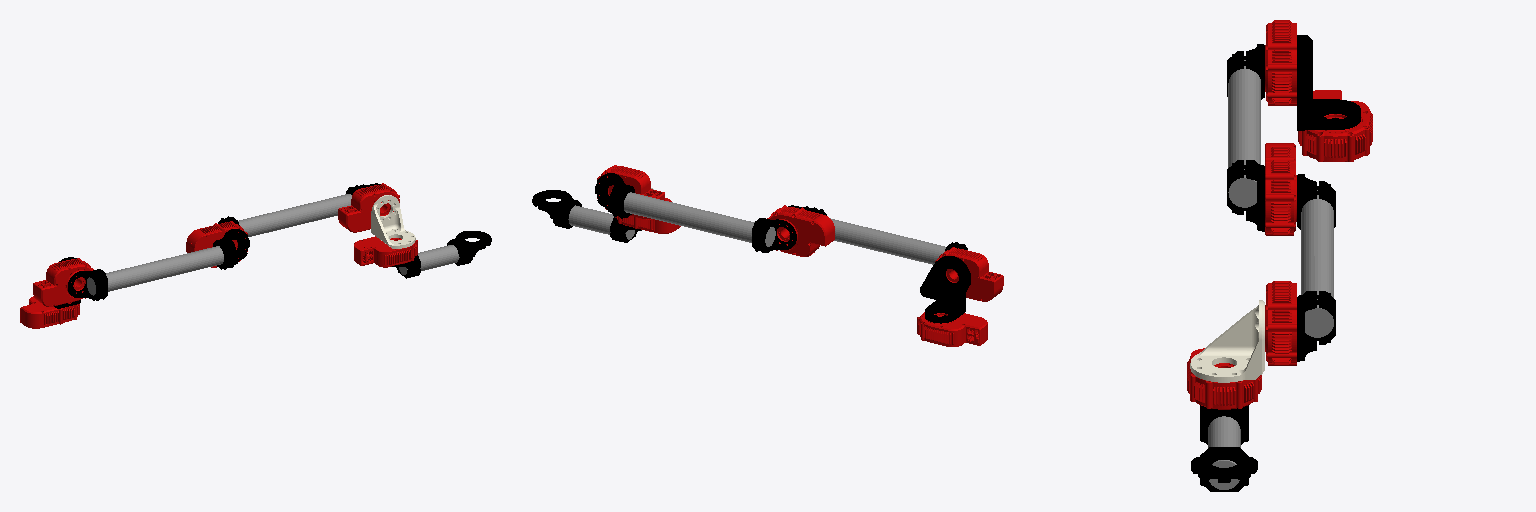
URDF robot description (5_dof_arm):
<?xml version="1.0" ?>
<!-- =================================================================================== -->
<!-- |    This document was autogenerated by xacro from 5_dof_arm.xacro                | -->
<!-- |    EDITING THIS FILE BY HAND IS NOT RECOMMENDED                                 | -->
<!-- =================================================================================== -->
<robot name="5_dof_arm" xmlns:xacro="http://www.ros.org/wiki/xacro">
  <!-- *************************** XACRO MACROS *************************** -->
  <!-- ************************* ROBOT DEFINITION ************************* -->
  <!-- world link -->
  <link name="world"/>
  <joint name="world_joint" type="fixed">
    <origin rpy="0 0 0" xyz="0 0 0"/>
    <parent link="world"/>
    <child link="HEBI/joint1/INPUT_INTERFACE"/>
  </joint>
  <link name="HEBI/joint1/INPUT_INTERFACE">
    <visual>
      <origin rpy="0 0 0" xyz="0 0 0"/>
      <geometry>
        <mesh filename="package://hebiros_description/meshes/x5.stl" scale="0.001 0.001 0.001"/>
      </geometry>
      <material name="red">
        <color rgba=".82 0.06 0.06 1"/>
      </material>
    </visual>
    <collision>
      <origin rpy="0 0 0" xyz="0 0 0"/>
      <geometry>
        <mesh filename="package://hebiros_description/meshes/x5.stl" scale="0.001 0.001 0.001"/>
      </geometry>
    </collision>
    <inertial>
      <origin rpy="0 0 0" xyz="-0.0142 -0.0031 0.0165"/>
      <mass value="0.335"/>
      <inertia ixx="0.00015" ixy="0.0000341" ixz="0.0000118" iyy="0.000255" iyz="0.00000229" izz="0.000350"/>
    </inertial>
  </link>
  <joint name="HEBI/joint1/X5_4" type="continuous">
    <parent link="HEBI/joint1/INPUT_INTERFACE"/>
    <child link="joint1_joint2/INPUT_INTERFACE"/>
    <origin rpy="0 0 0" xyz="0 0 0.031"/>
    <axis xyz="0 0 1"/>
    <limit effort="7.0" velocity="32"/>
    <dynamics damping="0.1" friction="0.1"/>
  </joint>
  <gazebo reference="HEBI/joint1/INPUT_INTERFACE">
    <selfCollide>true</selfCollide>
    <gravity>true</gravity>
    <sensor name="HEBI/joint1/imu_sensor" type="imu">
      <always_on>true</always_on>
      <update_rate>100</update_rate>
      <visualize>true</visualize>
      <plugin filename="libgazebo_ros_imu_sensor.so" name="imu_plugin">
        <topicName>/hebiros_gazebo_plugin/imu/HEBI/joint1</topicName>
        <bodyName>HEBI/joint1/imu_link</bodyName>
        <updateRateHZ>10.0</updateRateHZ>
        <gaussianNoise>0.0</gaussianNoise>
        <xyzOffset>0.025 0 0.003</xyzOffset>
        <rpyOffset>0 0 0</rpyOffset>
        <frameName>HEBI/joint1/imu_link</frameName>
      </plugin>
      <pose>0 0 0 0 0 0</pose>
    </sensor>
    <material>Gazebo/BlueGlow</material>
  </gazebo>
  <link name="joint1_joint2/INPUT_INTERFACE">
    <visual>
      <origin rpy="1.57079632679 0 1.57079632679" xyz="0 0 0.005"/>
      <geometry>
        <mesh filename="package://hebiros_description/meshes/PM-2149-01.stl" scale="0.001 0.001 0.001"/>
      </geometry>
      <material name="black">
        <color rgba="0 0 0 1"/>
      </material>
    </visual>
    <visual>
      <origin rpy="1.57079632679 0 0" xyz="0 -.03 .04"/>
      <geometry>
        <mesh filename="package://hebiros_description/meshes/PM-2150-01R.stl" scale="0.001 0.001 0.001"/>
      </geometry>
      <material name="black">
        <color rgba="0 0 0 1"/>
      </material>
    </visual>
    <collision>
      <origin rpy="1.57079632679 0 1.57079632679" xyz="0 0 0.005"/>
      <geometry>
        <mesh filename="package://hebiros_description/meshes/PM-2149-01.stl" scale="0.001 0.001 0.001"/>
      </geometry>
    </collision>
    <collision>
      <origin rpy="1.57079632679 0 0" xyz="0 -.03 .04"/>
      <geometry>
        <mesh filename="package://hebiros_description/meshes/PM-2150-01R.stl" scale="0.001 0.001 0.001"/>
      </geometry>
    </collision>
    <!-- NOTE: inertia is just modelled as small sphere, and could be improved. -->
    <inertial>
      <origin rpy="0 0 0" xyz="0 -0.01875 .0275"/>
      <mass value="0.215"/>
      <inertia ixx="0.0003096" ixy="0.0" ixz="0.0" iyy="0.0003096" iyz="0.0" izz="0.0003096"/>
    </inertial>
  </link>
  <joint name="joint1_joint2/OUTPUT_INTERFACE" type="fixed">
    <parent link="joint1_joint2/INPUT_INTERFACE"/>
    <child link="HEBI/joint2/INPUT_INTERFACE"/>
    <origin rpy="1.57079632679 0 0" xyz="0 -.0375 .055"/>
  </joint>
  <gazebo reference="joint1_joint2/INPUT_INTERFACE">
    <selfCollide>true</selfCollide>
  </gazebo>
  <link name="HEBI/joint2/INPUT_INTERFACE">
    <visual>
      <origin rpy="0 0 0" xyz="0 0 0"/>
      <geometry>
        <mesh filename="package://hebiros_description/meshes/x5.stl" scale="0.001 0.001 0.001"/>
      </geometry>
      <material name="red">
        <color rgba=".82 0.06 0.06 1"/>
      </material>
    </visual>
    <collision>
      <origin rpy="0 0 0" xyz="0 0 0"/>
      <geometry>
        <mesh filename="package://hebiros_description/meshes/x5.stl" scale="0.001 0.001 0.001"/>
      </geometry>
    </collision>
    <inertial>
      <origin rpy="0 0 0" xyz="-0.0142 -0.0031 0.0165"/>
      <mass value="0.335"/>
      <inertia ixx="0.00015" ixy="0.0000341" ixz="0.0000118" iyy="0.000255" iyz="0.00000229" izz="0.000350"/>
    </inertial>
  </link>
  <joint name="HEBI/joint2/X5_4" type="continuous">
    <parent link="HEBI/joint2/INPUT_INTERFACE"/>
    <child link="joint2_joint3/INPUT_INTERFACE"/>
    <origin rpy="0 0 0" xyz="0 0 0.031"/>
    <axis xyz="0 0 1"/>
    <limit effort="7.0" velocity="32"/>
    <dynamics damping="0.1" friction="0.1"/>
  </joint>
  <gazebo reference="HEBI/joint2/INPUT_INTERFACE">
    <selfCollide>true</selfCollide>
    <gravity>true</gravity>
    <sensor name="HEBI/joint2/imu_sensor" type="imu">
      <always_on>true</always_on>
      <update_rate>100</update_rate>
      <visualize>true</visualize>
      <plugin filename="libgazebo_ros_imu_sensor.so" name="imu_plugin">
        <topicName>/hebiros_gazebo_plugin/imu/HEBI/joint2</topicName>
        <bodyName>HEBI/joint2/imu_link</bodyName>
        <updateRateHZ>10.0</updateRateHZ>
        <gaussianNoise>0.0</gaussianNoise>
        <xyzOffset>0.025 0 0.003</xyzOffset>
        <rpyOffset>0 0 0</rpyOffset>
        <frameName>HEBI/joint2/imu_link</frameName>
      </plugin>
      <pose>0 0 0 0 0 0</pose>
    </sensor>
    <material>Gazebo/BlueGlow</material>
  </gazebo>
  <link name="joint2_joint3/INPUT_INTERFACE">
    <visual>
      <origin rpy="0 0 0" xyz="0 0 0"/>
      <geometry>
        <mesh filename="package://hebiros_description/meshes/A-2038-02.stl"/>
      </geometry>
      <material name="black">
        <color rgba="0 0 0 1"/>
      </material>
    </visual>
    <visual>
      <origin rpy="0 1.57075 0" xyz="0.15 0 0.02"/>
      <geometry>
        <cylinder length="0.2746" radius=".016"/>
      </geometry>
      <material name="silver">
        <color rgba="0.6 0.6 0.6 1"/>
      </material>
    </visual>
    <visual>
      <origin rpy="-3.14159265359 0 0" xyz="0.3 -2.44929359829e-18 0.0"/>
      <geometry>
        <mesh filename="package://hebiros_description/meshes/A-2039-02.stl"/>
      </geometry>
      <material name="black">
        <color rgba="0 0 0 1"/>
      </material>
    </visual>
    <collision>
      <origin rpy="0 0 0" xyz="0 0 0"/>
      <geometry>
        <mesh filename="package://hebiros_description/meshes/A-2038-02.stl"/>
      </geometry>
    </collision>
    <collision>
      <origin rpy="0 1.57075 0" xyz="0.15 0 0.02"/>
      <geometry>
        <cylinder length="0.2746" radius=".016"/>
      </geometry>
    </collision>
    <collision>
      <origin rpy="-3.14159265359 0 0" xyz="0.3 -2.44929359829e-18 0.0"/>
      <geometry>
        <mesh filename="package://hebiros_description/meshes/A-2039-02.stl"/>
      </geometry>
    </collision>
    <!-- Approximate inertia as thin rod about x axis -->
    <inertial>
      <origin rpy="0 0 0" xyz="0.15 0 0.02"/>
      <mass value="0.392"/>
      <inertia ixx="0.0" ixy="0.0" ixz="0.0" iyy="0.00294" iyz="0.0" izz="0.00294"/>
    </inertial>
  </link>
  <joint name="joint2_joint3/OUTPUT_JOINT" type="fixed">
    <parent link="joint2_joint3/INPUT_INTERFACE"/>
    <child link="HEBI/joint3/INPUT_INTERFACE"/>
    <origin rpy="3.14159265359 0 0" xyz="0.3 -2.44929359829e-18 0.0"/>
  </joint>
  <gazebo reference="joint2_joint3/INPUT_INTERFACE">
    <selfCollide>true</selfCollide>
    <material>Gazebo/FlatBlack</material>
  </gazebo>
  <link name="HEBI/joint3/INPUT_INTERFACE">
    <visual>
      <origin rpy="0 0 0" xyz="0 0 0"/>
      <geometry>
        <mesh filename="package://hebiros_description/meshes/x5.stl" scale="0.001 0.001 0.001"/>
      </geometry>
      <material name="red">
        <color rgba=".82 0.06 0.06 1"/>
      </material>
    </visual>
    <collision>
      <origin rpy="0 0 0" xyz="0 0 0"/>
      <geometry>
        <mesh filename="package://hebiros_description/meshes/x5.stl" scale="0.001 0.001 0.001"/>
      </geometry>
    </collision>
    <inertial>
      <origin rpy="0 0 0" xyz="-0.0142 -0.0031 0.0165"/>
      <mass value="0.335"/>
      <inertia ixx="0.00015" ixy="0.0000341" ixz="0.0000118" iyy="0.000255" iyz="0.00000229" izz="0.000350"/>
    </inertial>
  </link>
  <joint name="HEBI/joint3/X5_4" type="continuous">
    <parent link="HEBI/joint3/INPUT_INTERFACE"/>
    <child link="joint3_joint4/INPUT_INTERFACE"/>
    <origin rpy="0 0 0" xyz="0 0 0.031"/>
    <axis xyz="0 0 1"/>
    <limit effort="7.0" velocity="32"/>
    <dynamics damping="0.1" friction="0.1"/>
  </joint>
  <gazebo reference="HEBI/joint3/INPUT_INTERFACE">
    <selfCollide>true</selfCollide>
    <gravity>true</gravity>
    <sensor name="HEBI/joint3/imu_sensor" type="imu">
      <always_on>true</always_on>
      <update_rate>100</update_rate>
      <visualize>true</visualize>
      <plugin filename="libgazebo_ros_imu_sensor.so" name="imu_plugin">
        <topicName>/hebiros_gazebo_plugin/imu/HEBI/joint3</topicName>
        <bodyName>HEBI/joint3/imu_link</bodyName>
        <updateRateHZ>10.0</updateRateHZ>
        <gaussianNoise>0.0</gaussianNoise>
        <xyzOffset>0.025 0 0.003</xyzOffset>
        <rpyOffset>0 0 0</rpyOffset>
        <frameName>HEBI/joint3/imu_link</frameName>
      </plugin>
      <pose>0 0 0 0 0 0</pose>
    </sensor>
    <material>Gazebo/BlueGlow</material>
  </gazebo>
  <link name="joint3_joint4/INPUT_INTERFACE">
    <visual>
      <origin rpy="0 0 0" xyz="0 0 0"/>
      <geometry>
        <mesh filename="package://hebiros_description/meshes/A-2038-02.stl"/>
      </geometry>
      <material name="black">
        <color rgba="0 0 0 1"/>
      </material>
    </visual>
    <visual>
      <origin rpy="0 1.57075 0" xyz="0.15 0 0.02"/>
      <geometry>
        <cylinder length="0.2746" radius=".016"/>
      </geometry>
      <material name="silver">
        <color rgba="0.6 0.6 0.6 1"/>
      </material>
    </visual>
    <visual>
      <origin rpy="-3.14159265359 0 0" xyz="0.3 -2.44929359829e-18 0.0"/>
      <geometry>
        <mesh filename="package://hebiros_description/meshes/A-2039-02.stl"/>
      </geometry>
      <material name="black">
        <color rgba="0 0 0 1"/>
      </material>
    </visual>
    <collision>
      <origin rpy="0 0 0" xyz="0 0 0"/>
      <geometry>
        <mesh filename="package://hebiros_description/meshes/A-2038-02.stl"/>
      </geometry>
    </collision>
    <collision>
      <origin rpy="0 1.57075 0" xyz="0.15 0 0.02"/>
      <geometry>
        <cylinder length="0.2746" radius=".016"/>
      </geometry>
    </collision>
    <collision>
      <origin rpy="-3.14159265359 0 0" xyz="0.3 -2.44929359829e-18 0.0"/>
      <geometry>
        <mesh filename="package://hebiros_description/meshes/A-2039-02.stl"/>
      </geometry>
    </collision>
    <!-- Approximate inertia as thin rod about x axis -->
    <inertial>
      <origin rpy="0 0 0" xyz="0.15 0 0.02"/>
      <mass value="0.392"/>
      <inertia ixx="0.0" ixy="0.0" ixz="0.0" iyy="0.00294" iyz="0.0" izz="0.00294"/>
    </inertial>
  </link>
  <joint name="joint3_joint4/OUTPUT_JOINT" type="fixed">
    <parent link="joint3_joint4/INPUT_INTERFACE"/>
    <child link="HEBI/joint4/INPUT_INTERFACE"/>
    <origin rpy="3.14159265359 0 0" xyz="0.3 -2.44929359829e-18 0.0"/>
  </joint>
  <gazebo reference="joint3_joint4/INPUT_INTERFACE">
    <selfCollide>true</selfCollide>
    <material>Gazebo/FlatBlack</material>
  </gazebo>
  <link name="HEBI/joint4/INPUT_INTERFACE">
    <visual>
      <origin rpy="0 0 0" xyz="0 0 0"/>
      <geometry>
        <mesh filename="package://hebiros_description/meshes/x5.stl" scale="0.001 0.001 0.001"/>
      </geometry>
      <material name="red">
        <color rgba=".82 0.06 0.06 1"/>
      </material>
    </visual>
    <collision>
      <origin rpy="0 0 0" xyz="0 0 0"/>
      <geometry>
        <mesh filename="package://hebiros_description/meshes/x5.stl" scale="0.001 0.001 0.001"/>
      </geometry>
    </collision>
    <inertial>
      <origin rpy="0 0 0" xyz="-0.0142 -0.0031 0.0165"/>
      <mass value="0.335"/>
      <inertia ixx="0.00015" ixy="0.0000341" ixz="0.0000118" iyy="0.000255" iyz="0.00000229" izz="0.000350"/>
    </inertial>
  </link>
  <joint name="HEBI/joint4/X5_4" type="continuous">
    <parent link="HEBI/joint4/INPUT_INTERFACE"/>
    <child link="joint4_joint5/INPUT_INTERFACE"/>
    <origin rpy="0 0 0" xyz="0 0 0.031"/>
    <axis xyz="0 0 1"/>
    <limit effort="7.0" velocity="32"/>
    <dynamics damping="0.1" friction="0.1"/>
  </joint>
  <gazebo reference="HEBI/joint4/INPUT_INTERFACE">
    <selfCollide>true</selfCollide>
    <gravity>true</gravity>
    <sensor name="HEBI/joint4/imu_sensor" type="imu">
      <always_on>true</always_on>
      <update_rate>100</update_rate>
      <visualize>true</visualize>
      <plugin filename="libgazebo_ros_imu_sensor.so" name="imu_plugin">
        <topicName>/hebiros_gazebo_plugin/imu/HEBI/joint4</topicName>
        <bodyName>HEBI/joint4/imu_link</bodyName>
        <updateRateHZ>10.0</updateRateHZ>
        <gaussianNoise>0.0</gaussianNoise>
        <xyzOffset>0.025 0 0.003</xyzOffset>
        <rpyOffset>0 0 0</rpyOffset>
        <frameName>HEBI/joint4/imu_link</frameName>
      </plugin>
      <pose>0 0 0 0 0 0</pose>
    </sensor>
    <material>Gazebo/BlueGlow</material>
  </gazebo>
  <link name="joint4_joint5/INPUT_INTERFACE">
    <visual>
      <origin rpy="1.57079632679 0 -1.57079632679" xyz="0 0 0"/>
      <geometry>
        <mesh filename="package://hebiros_description/meshes/PM-2132-01R.stl" scale="0.001 0.001 0.001"/>
      </geometry>
      <material name="beige">
        <color rgba="0.96 0.945 0.871 1"/>
      </material>
    </visual>
    <collision>
      <origin rpy="1.57079632679 0 -1.57079632679" xyz="0 0 0"/>
      <geometry>
        <mesh filename="package://hebiros_description/meshes/PM-2132-01R.stl" scale="0.001 0.001 0.001"/>
      </geometry>
    </collision>
    <!-- NOTE: inertia is just modelled as small sphere, and could be improved. -->
    <inertial>
      <origin rpy="0 0 0" xyz="0 -.0215 .02"/>
      <mass value="0.1"/>
      <inertia ixx="0.000144" ixy="0.0" ixz="0.0" iyy="0.000144" iyz="0.0" izz="0.000144"/>
    </inertial>
  </link>
  <joint name="joint4_joint5/OUTPUT_INTERFACE" type="fixed">
    <parent link="joint4_joint5/INPUT_INTERFACE"/>
    <child link="HEBI/joint5/INPUT_INTERFACE"/>
    <origin rpy="1.57079632679 0 0" xyz="0 -.043 .04"/>
  </joint>
  <gazebo reference="joint4_joint5/INPUT_INTERFACE">
    <selfCollide>true</selfCollide>
  </gazebo>
  <link name="HEBI/joint5/INPUT_INTERFACE">
    <visual>
      <origin rpy="0 0 0" xyz="0 0 0"/>
      <geometry>
        <mesh filename="package://hebiros_description/meshes/x5.stl" scale="0.001 0.001 0.001"/>
      </geometry>
      <material name="red">
        <color rgba=".82 0.06 0.06 1"/>
      </material>
    </visual>
    <collision>
      <origin rpy="0 0 0" xyz="0 0 0"/>
      <geometry>
        <mesh filename="package://hebiros_description/meshes/x5.stl" scale="0.001 0.001 0.001"/>
      </geometry>
    </collision>
    <inertial>
      <origin rpy="0 0 0" xyz="-0.0142 -0.0031 0.0165"/>
      <mass value="0.335"/>
      <inertia ixx="0.00015" ixy="0.0000341" ixz="0.0000118" iyy="0.000255" iyz="0.00000229" izz="0.000350"/>
    </inertial>
  </link>
  <joint name="HEBI/joint5/X5_4" type="continuous">
    <parent link="HEBI/joint5/INPUT_INTERFACE"/>
    <child link="joint5_end/INPUT_INTERFACE"/>
    <origin rpy="0 0 0" xyz="0 0 0.031"/>
    <axis xyz="0 0 1"/>
    <limit effort="7.0" velocity="32"/>
    <dynamics damping="0.1" friction="0.1"/>
  </joint>
  <gazebo reference="HEBI/joint5/INPUT_INTERFACE">
    <selfCollide>true</selfCollide>
    <gravity>true</gravity>
    <sensor name="HEBI/joint5/imu_sensor" type="imu">
      <always_on>true</always_on>
      <update_rate>100</update_rate>
      <visualize>true</visualize>
      <plugin filename="libgazebo_ros_imu_sensor.so" name="imu_plugin">
        <topicName>/hebiros_gazebo_plugin/imu/HEBI/joint5</topicName>
        <bodyName>HEBI/joint5/imu_link</bodyName>
        <updateRateHZ>10.0</updateRateHZ>
        <gaussianNoise>0.0</gaussianNoise>
        <xyzOffset>0.025 0 0.003</xyzOffset>
        <rpyOffset>0 0 0</rpyOffset>
        <frameName>HEBI/joint5/imu_link</frameName>
      </plugin>
      <pose>0 0 0 0 0 0</pose>
    </sensor>
    <material>Gazebo/BlueGlow</material>
  </gazebo>
  <link name="joint5_end/INPUT_INTERFACE">
    <visual>
      <origin rpy="0 0 0" xyz="0 0 0"/>
      <geometry>
        <mesh filename="package://hebiros_description/meshes/A-2038-02.stl"/>
      </geometry>
      <material name="black">
        <color rgba="0 0 0 1"/>
      </material>
    </visual>
    <visual>
      <origin rpy="0 1.57075 0" xyz="0.075 0 0.02"/>
      <geometry>
        <cylinder length="0.1246" radius=".016"/>
      </geometry>
      <material name="silver">
        <color rgba="0.6 0.6 0.6 1"/>
      </material>
    </visual>
    <visual>
      <origin rpy="-3.14159265359 0 0" xyz="0.15 -2.44929359829e-18 0.0"/>
      <geometry>
        <mesh filename="package://hebiros_description/meshes/A-2039-02.stl"/>
      </geometry>
      <material name="black">
        <color rgba="0 0 0 1"/>
      </material>
    </visual>
    <collision>
      <origin rpy="0 0 0" xyz="0 0 0"/>
      <geometry>
        <mesh filename="package://hebiros_description/meshes/A-2038-02.stl"/>
      </geometry>
    </collision>
    <collision>
      <origin rpy="0 1.57075 0" xyz="0.075 0 0.02"/>
      <geometry>
        <cylinder length="0.1246" radius=".016"/>
      </geometry>
    </collision>
    <collision>
      <origin rpy="-3.14159265359 0 0" xyz="0.15 -2.44929359829e-18 0.0"/>
      <geometry>
        <mesh filename="package://hebiros_description/meshes/A-2039-02.stl"/>
      </geometry>
    </collision>
    <!-- Approximate inertia as thin rod about x axis -->
    <inertial>
      <origin rpy="0 0 0" xyz="0.075 0 0.02"/>
      <mass value="0.332"/>
      <inertia ixx="0.0" ixy="0.0" ixz="0.0" iyy="0.0006225" iyz="0.0" izz="0.0006225"/>
    </inertial>
  </link>
  <joint name="joint5_end/OUTPUT_JOINT" type="fixed">
    <parent link="joint5_end/INPUT_INTERFACE"/>
    <child link="end_effector/INPUT_INTERFACE"/>
    <origin rpy="3.14159265359 0 0" xyz="0.15 -2.44929359829e-18 0.0"/>
  </joint>
  <gazebo reference="joint5_end/INPUT_INTERFACE">
    <selfCollide>true</selfCollide>
    <material>Gazebo/FlatBlack</material>
  </gazebo>
  <!-- end link -->
  <link name="end_effector/INPUT_INTERFACE">
  </link>
  <gazebo>
    <plugin filename="libhebiros_gazebo_plugin.so" name="hebiros_gazebo_plugin">
    </plugin>
  </gazebo>
</robot>

--- Facts derived from the render (not from the file) ---
The picture shows the robot from 3 angles, left to right: view 1: azimuth 30°, elevation 25°; view 2: azimuth 150°, elevation 25°; view 3: azimuth 270°, elevation 25°; orthographic projection.
Model 5_dof_arm with 12 links and 11 joints (5 continuous, 6 fixed), rooted at world, posed all joints at 0.
Links seen in each view (by area): view 1: joint2_joint3/INPUT_INTERFACE, joint3_joint4/INPUT_INTERFACE, joint5_end/INPUT_INTERFACE, HEBI/joint2/INPUT_INTERFACE, HEBI/joint4/INPUT_INTERFACE, joint4_joint5/INPUT_INTERFACE, HEBI/joint5/INPUT_INTERFACE, HEBI/joint1/INPUT_INTERFACE, HEBI/joint3/INPUT_INTERFACE; view 2: joint3_joint4/INPUT_INTERFACE, joint2_joint3/INPUT_INTERFACE, joint5_end/INPUT_INTERFACE, joint1_joint2/INPUT_INTERFACE, HEBI/joint3/INPUT_INTERFACE, HEBI/joint1/INPUT_INTERFACE, HEBI/joint2/INPUT_INTERFACE, HEBI/joint4/INPUT_INTERFACE, HEBI/joint5/INPUT_INTERFACE; view 3: joint3_joint4/INPUT_INTERFACE, joint2_joint3/INPUT_INTERFACE, joint5_end/INPUT_INTERFACE, joint4_joint5/INPUT_INTERFACE, HEBI/joint3/INPUT_INTERFACE, HEBI/joint1/INPUT_INTERFACE, joint1_joint2/INPUT_INTERFACE, HEBI/joint2/INPUT_INTERFACE, HEBI/joint4/INPUT_INTERFACE, HEBI/joint5/INPUT_INTERFACE.
Boxes of the visible links, x1=… form: joint2_joint3/INPUT_INTERFACE: x1=68, y1=229, x2=249, y2=300; joint3_joint4/INPUT_INTERFACE: x1=218, y1=183, x2=380, y2=236; joint5_end/INPUT_INTERFACE: x1=392, y1=231, x2=491, y2=278; HEBI/joint2/INPUT_INTERFACE: x1=33, y1=258, x2=93, y2=306; HEBI/joint4/INPUT_INTERFACE: x1=338, y1=183, x2=399, y2=232; joint4_joint5/INPUT_INTERFACE: x1=371, y1=195, x2=415, y2=248; HEBI/joint5/INPUT_INTERFACE: x1=354, y1=236, x2=417, y2=267; HEBI/joint1/INPUT_INTERFACE: x1=20, y1=296, x2=79, y2=328; HEBI/joint3/INPUT_INTERFACE: x1=186, y1=221, x2=247, y2=267; joint3_joint4/INPUT_INTERFACE: x1=595, y1=173, x2=796, y2=252; joint2_joint3/INPUT_INTERFACE: x1=788, y1=205, x2=967, y2=264; joint5_end/INPUT_INTERFACE: x1=532, y1=190, x2=641, y2=242; joint1_joint2/INPUT_INTERFACE: x1=920, y1=256, x2=970, y2=323; HEBI/joint3/INPUT_INTERFACE: x1=767, y1=205, x2=834, y2=256; HEBI/joint1/INPUT_INTERFACE: x1=917, y1=312, x2=987, y2=346; HEBI/joint2/INPUT_INTERFACE: x1=935, y1=247, x2=1003, y2=301; HEBI/joint4/INPUT_INTERFACE: x1=597, y1=165, x2=664, y2=218; HEBI/joint5/INPUT_INTERFACE: x1=615, y1=198, x2=680, y2=233; joint3_joint4/INPUT_INTERFACE: x1=1297, y1=174, x2=1335, y2=361; joint2_joint3/INPUT_INTERFACE: x1=1227, y1=44, x2=1264, y2=231; joint5_end/INPUT_INTERFACE: x1=1191, y1=405, x2=1257, y2=491; joint4_joint5/INPUT_INTERFACE: x1=1190, y1=300, x2=1264, y2=382; HEBI/joint3/INPUT_INTERFACE: x1=1265, y1=143, x2=1296, y2=235; HEBI/joint1/INPUT_INTERFACE: x1=1298, y1=90, x2=1372, y2=161; joint1_joint2/INPUT_INTERFACE: x1=1297, y1=35, x2=1360, y2=130; HEBI/joint2/INPUT_INTERFACE: x1=1265, y1=20, x2=1296, y2=105; HEBI/joint4/INPUT_INTERFACE: x1=1265, y1=281, x2=1296, y2=365; HEBI/joint5/INPUT_INTERFACE: x1=1187, y1=348, x2=1261, y2=409.
Size in the robot's own frame: 0.8556 by 0.1815 by 0.148 metres.
14 mesh visuals loaded from 6 distinct referenced files (6 binary STL).